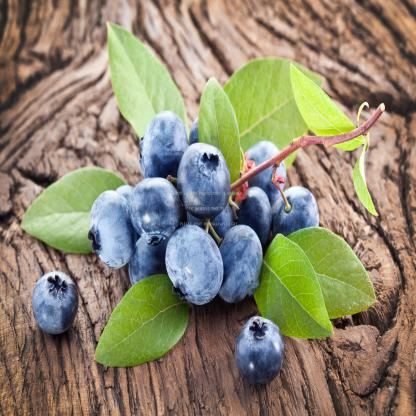blueberry leaf: (257, 215, 397, 357), (22, 160, 136, 256), (93, 270, 193, 376)
